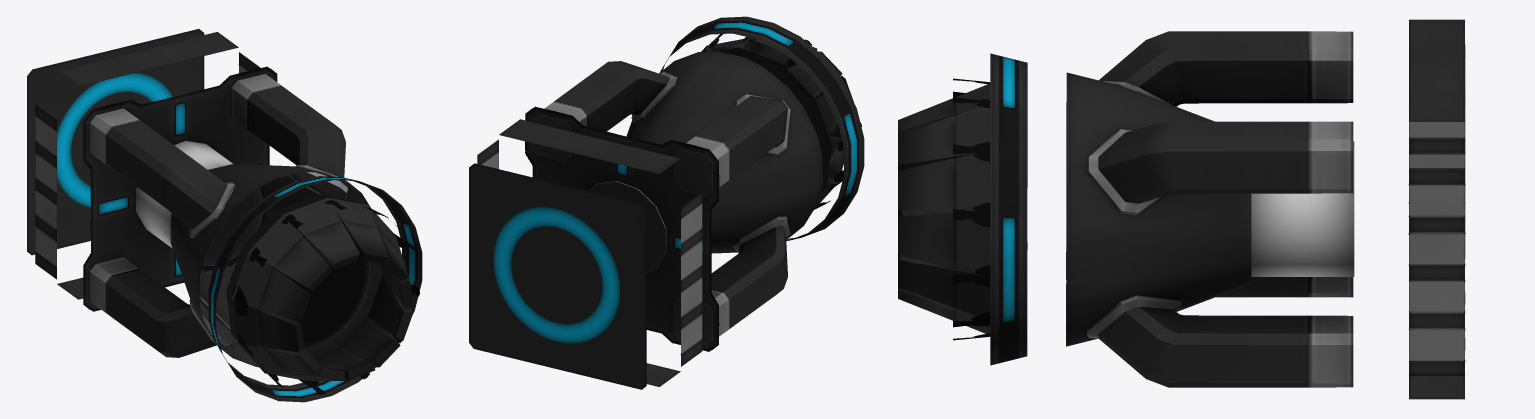
Rendered from obj_interactive_thruster_04_pose1.fbx.
The picture shows the model from 3 angles, left to right: view 1: azimuth 30°, elevation 25°; view 2: azimuth 150°, elevation 25°; view 3: azimuth 270°, elevation 25°; orthographic projection. The views are drawn at different scales.
Visible parts, largest first — view 1: obj_interactive_thruster_04_pose1; view 2: obj_interactive_thruster_04_pose1; view 3: obj_interactive_thruster_04_pose1.
Boxes of the visible parts, left/top/right/bottom form: obj_interactive_thruster_04_pose1: left=27, top=29, right=422, bottom=402; obj_interactive_thruster_04_pose1: left=469, top=16, right=864, bottom=389; obj_interactive_thruster_04_pose1: left=898, top=19, right=1465, bottom=399.
Bounding box in the file's own units: 2.03 × 2.03 × 4.07.
